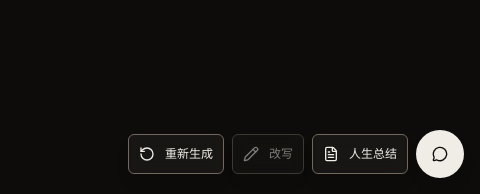
Test: ChatBar accessibility › expands chat panel when launcher is clicked
# ChatBar starts collapsed with launcher button
Step 1. Click the button named "打开聊天" → (440, 154), box [416,130,464,178]
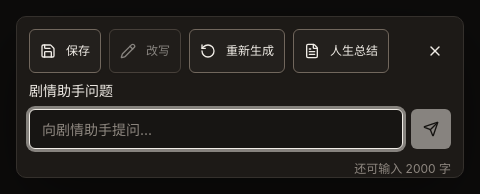
Check: the element with test id "chat-bar-panel" is shown
